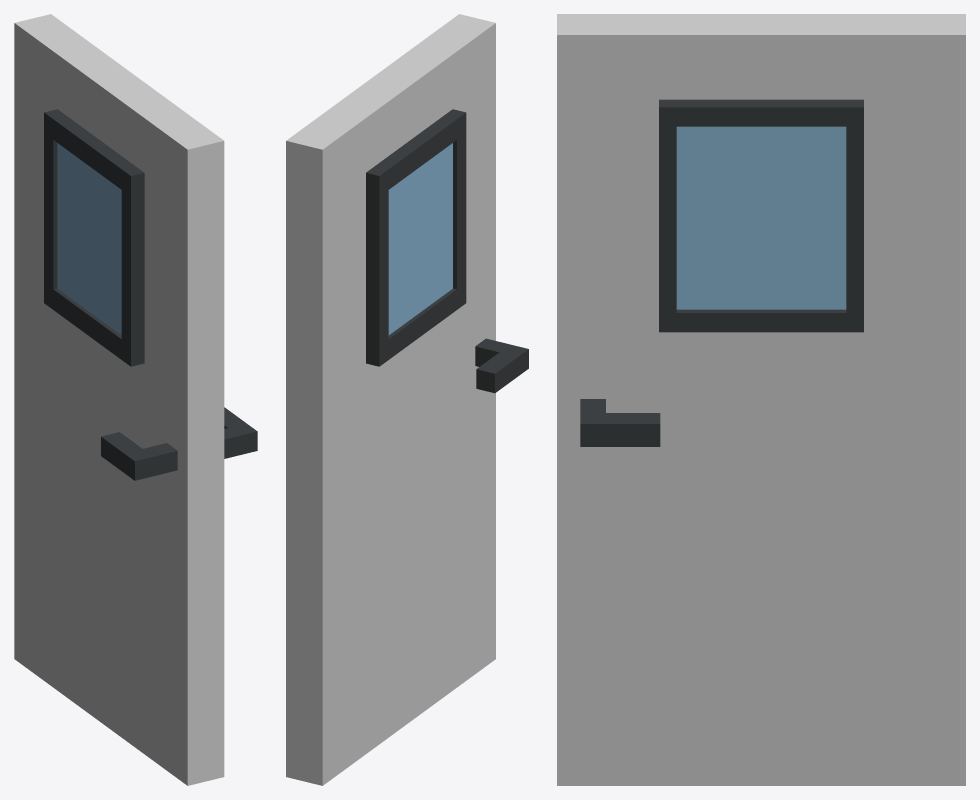
Rendered from porta.fbx.
3 views of the same model, side by side, from view 1: azimuth 30°, elevation 25°; view 2: azimuth 150°, elevation 25°; view 3: azimuth 270°, elevation 25° (orthographic). The views are drawn at different scales.
Parts seen in each view (by area): view 1: Cube, Cube.008, Cube.005, Cube.007, Cube.004, Cube.006; view 2: Cube, Cube.008, Cube.005, Cube.004; view 3: Cube, Cube.008, Cube.007.
Part boxes in pixels (x1=…): Cube: x1=14, y1=14, x2=224, y2=785; Cube.008: x1=44, y1=109, x2=144, y2=366; Cube.005: x1=101, y1=432, x2=153, y2=480; Cube.007: x1=224, y1=407, x2=257, y2=455; Cube.004: x1=143, y1=443, x2=177, y2=475; Cube.006: x1=224, y1=427, x2=241, y2=458; Cube: x1=286, y1=14, x2=495, y2=785; Cube.008: x1=366, y1=109, x2=466, y2=366; Cube.005: x1=476, y1=344, x2=528, y2=393; Cube.004: x1=475, y1=338, x2=509, y2=366; Cube: x1=557, y1=14, x2=965, y2=785; Cube.008: x1=659, y1=99, x2=863, y2=332; Cube.007: x1=580, y1=413, x2=660, y2=446.
Bounding box in the file's own units: 110 × 547 × 270.
